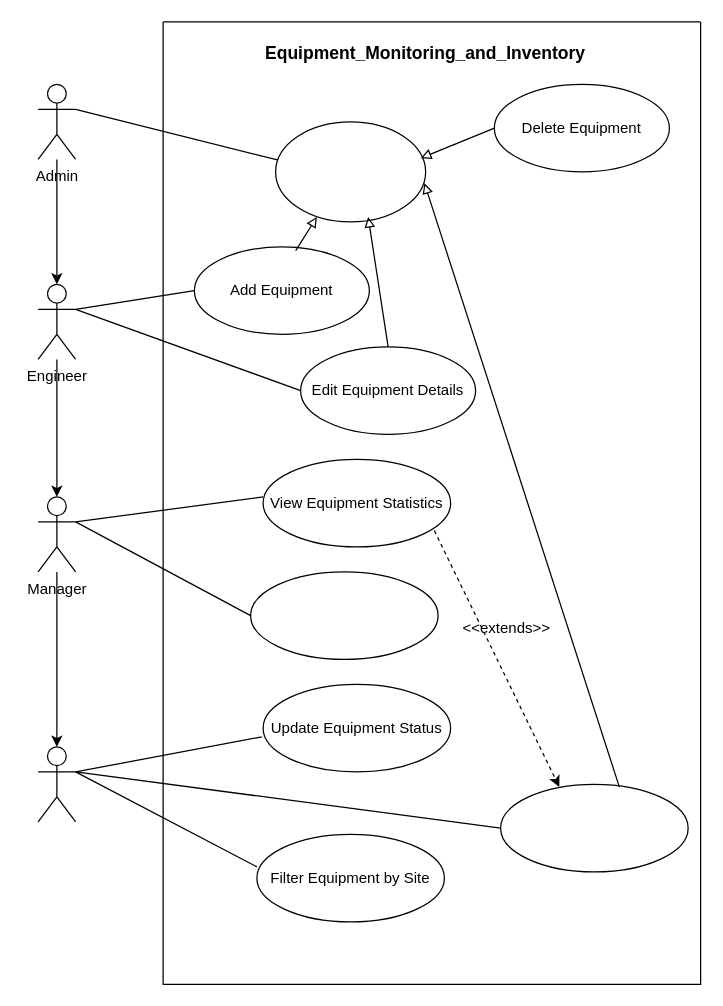
The diagram is 723 pixels wide and 1006 high, and some of its shapes have lost their labels. The shapes that lost their labels are listed below. From the top down, each one's box as (x1, y1, x2, y2) in pixels, then its label:
(274, 121, 426, 222): Manage Equipment
(249, 571, 438, 659): Track Installation
(37, 746, 76, 822): Technician
(499, 783, 688, 872): View Equipment List
